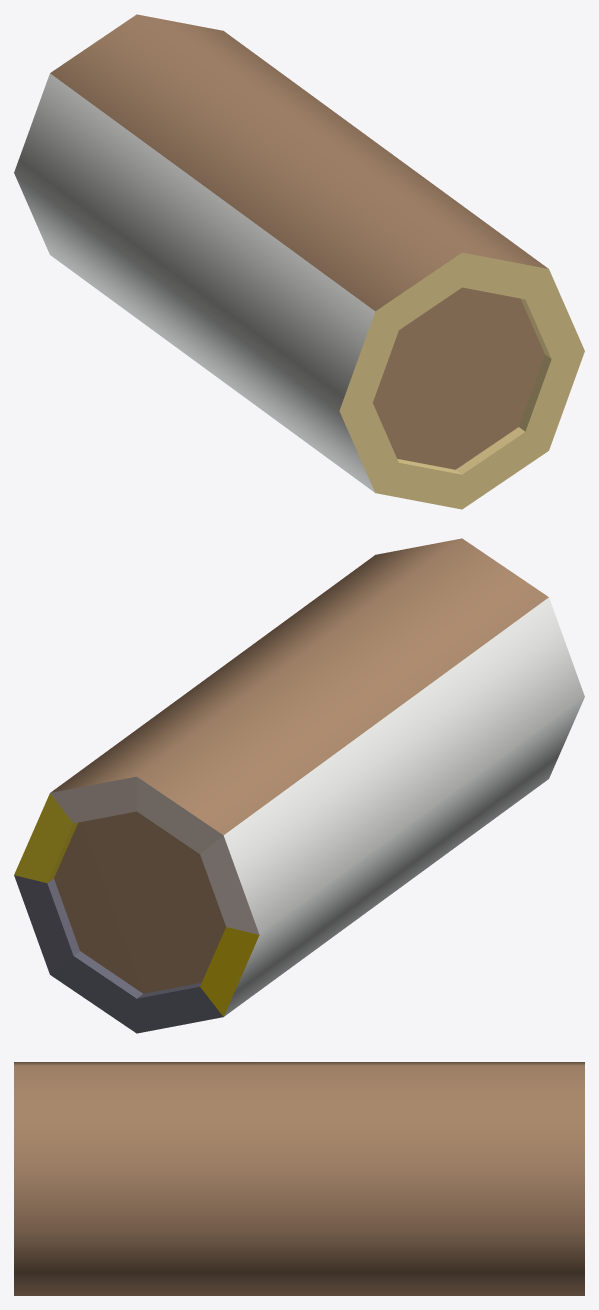
File: log.glb
3 renders of one model, top to bottom at view 1: azimuth 30°, elevation 25°; view 2: azimuth 150°, elevation 25°; view 3: azimuth 270°, elevation 25°, orthographic. The views are drawn at different scales.
Parts seen in each view (by area): view 1: Log.001; view 2: Log.001; view 3: Log.001.
Part boxes in pixels (bbox=[...]): Log.001: bbox=[14, 14, 584, 509]; Log.001: bbox=[14, 538, 584, 1033]; Log.001: bbox=[14, 1062, 584, 1295].
Bounding box in the file's own units: 0.2658 × 0.2658 × 0.6101.
